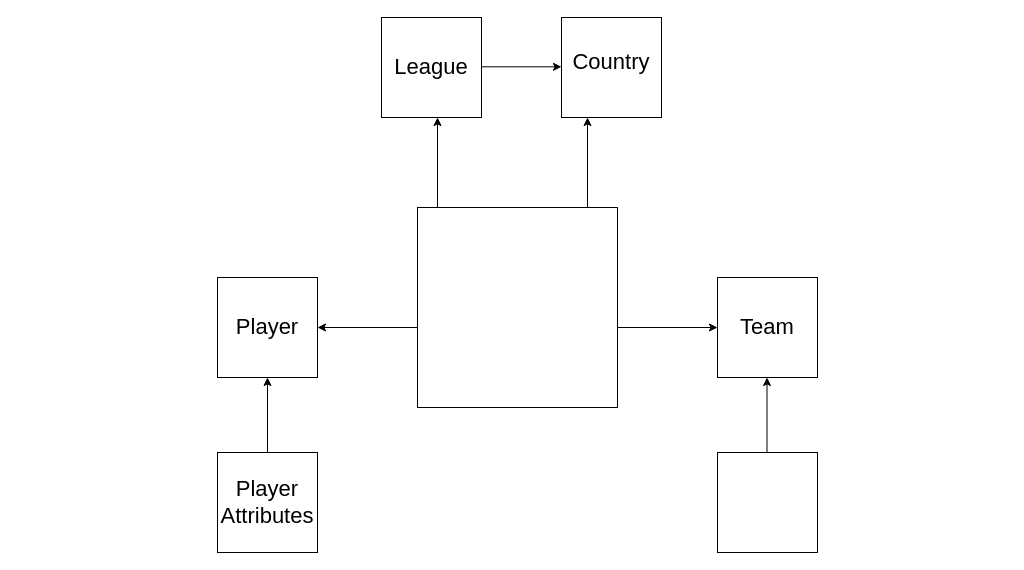
The diagram is 1024 pixels wide and 570 high, and some of its shapes have lost their labels. The centre of each missing label's shape, as x and y in pixels:
Match: the point at 517,307
Team Attributes: the point at 767,502
